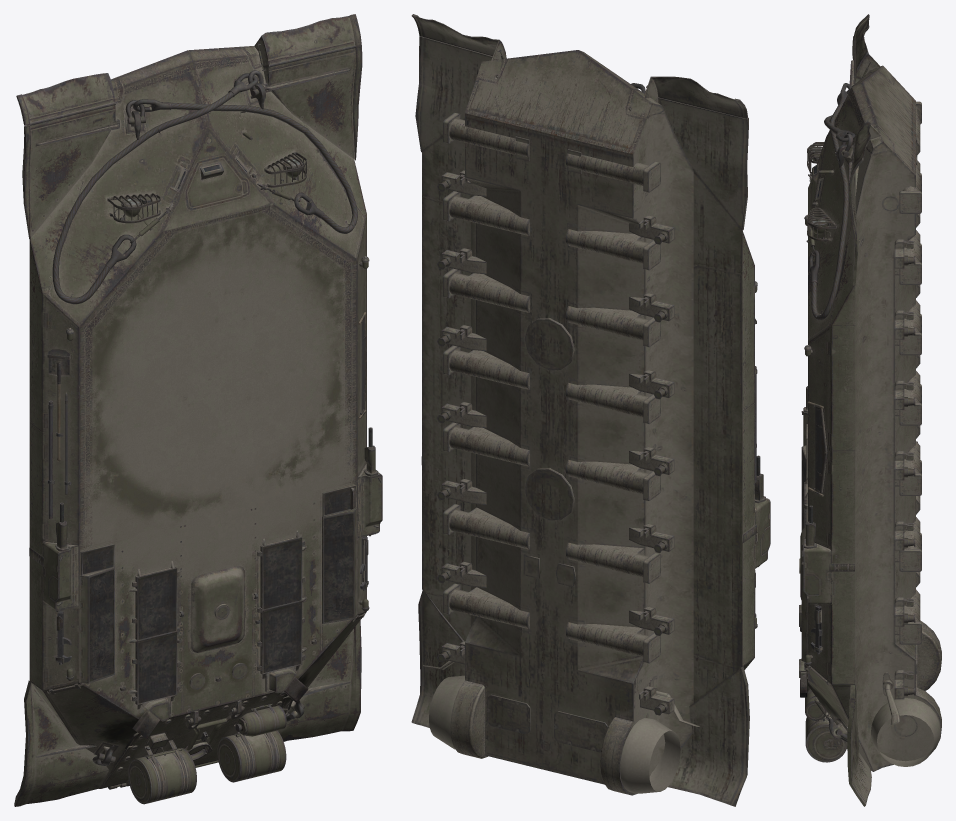
Rendered from Hull.glb.
The picture shows the model from 3 angles, left to right: view 1: azimuth 30°, elevation 25°; view 2: azimuth 150°, elevation 25°; view 3: azimuth 270°, elevation 25°; orthographic projection. The views are drawn at different scales.
Parts seen in each view (by area): view 1: set_0_group_0; view 2: set_0_group_0; view 3: set_0_group_0.
Part boxes in pixels (x1,y1,x2,y2): set_0_group_0: (14,14,382,806); set_0_group_0: (411,14,770,806); set_0_group_0: (799,14,941,806).
Size of the model in its own units: 3.59 by 7.37 by 1.45.
Materials: 1 (1 with a texture image).
